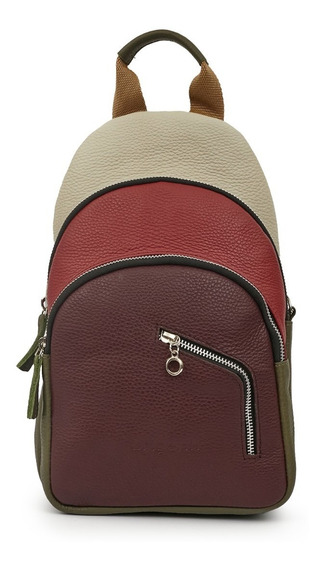cartera: (16, 28, 301, 524)
